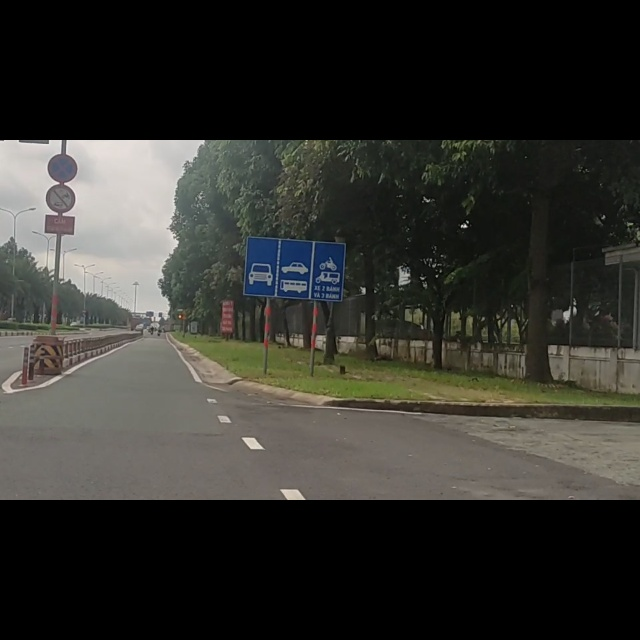bien_cam: (242, 171, 347, 284), (44, 77, 77, 130), (45, 24, 79, 75)
